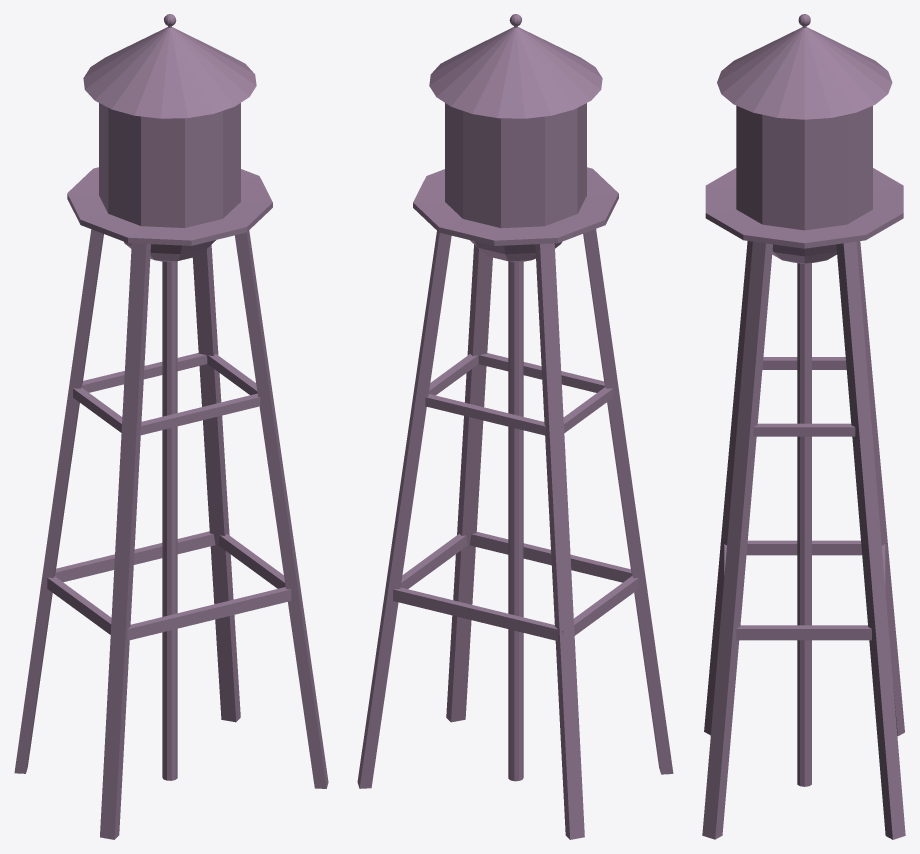
Rendered from Water_tower.fbx.
3 views of the same model, side by side, from view 1: azimuth 30°, elevation 25°; view 2: azimuth 150°, elevation 25°; view 3: azimuth 270°, elevation 25° (orthographic).
Parts seen in each view (by area): view 1: watertower_top1; view 2: watertower_top1; view 3: watertower_top1.
Part boxes in pixels (x1,y1,x2,y2): watertower_top1: [14, 14, 328, 839]; watertower_top1: [357, 14, 673, 839]; watertower_top1: [702, 14, 905, 839].
Bounding box in the file's own units: 18.67 × 59.62 × 14.29.
